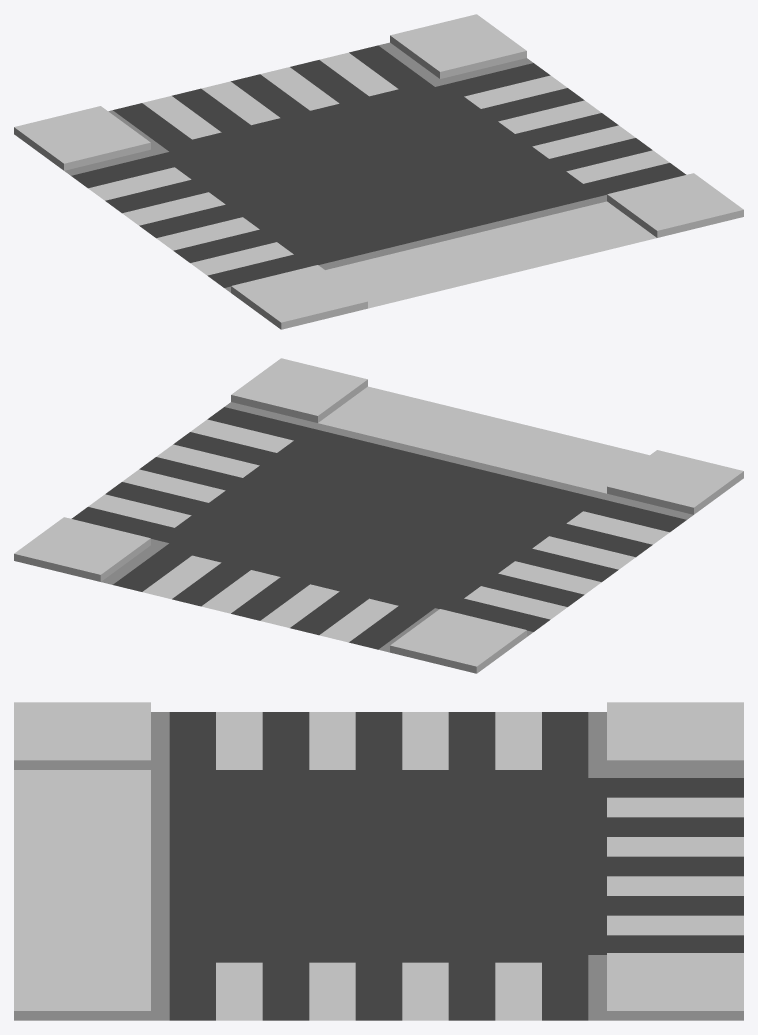
File: Road_Square_Part_1.FBX
The picture shows the model from 3 angles, top to bottom: view 1: azimuth 30°, elevation 25°; view 2: azimuth 150°, elevation 25°; view 3: azimuth 270°, elevation 25°; orthographic projection. The views are drawn at different scales.
Visible parts, largest first — view 1: Road Square Part 01; view 2: Road Square Part 01; view 3: Road Square Part 01.
Part boxes in pixels (x1,y1,x2,y2): Road Square Part 01: (14, 14, 743, 329); Road Square Part 01: (14, 358, 743, 673); Road Square Part 01: (14, 702, 743, 1020).
Size of the model in its own units: 9 by 0.1326 by 9.
1 material, 1 textured.
